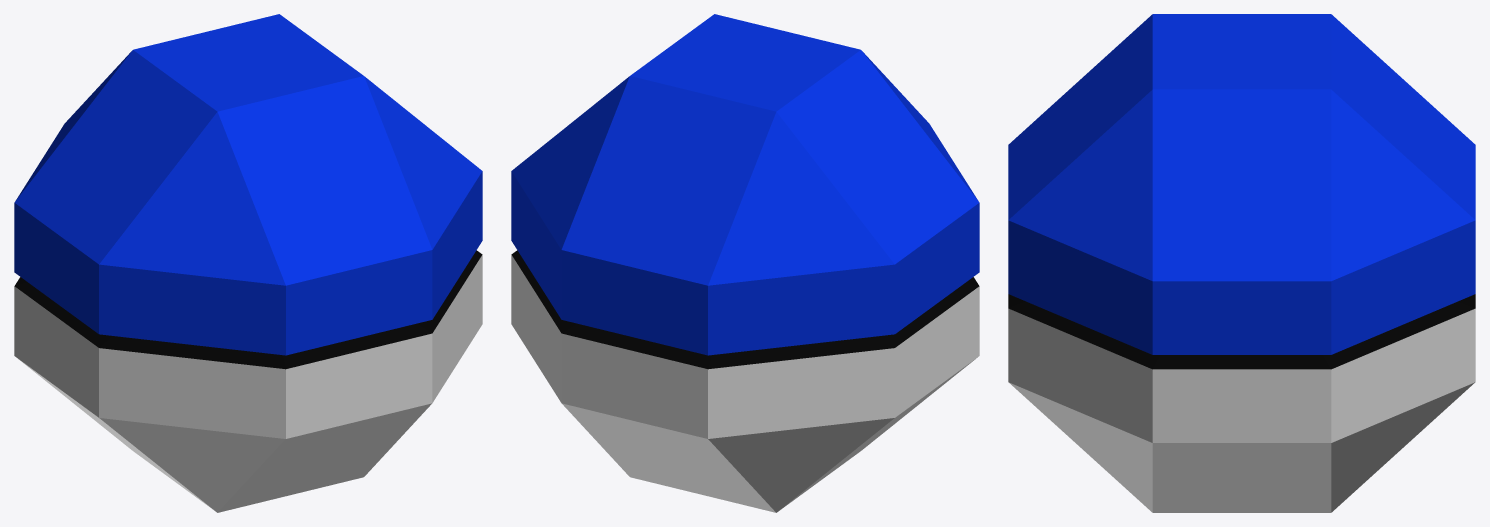
The model's file is blueballs.fbx.
3 renders of one model, left to right at view 1: azimuth 30°, elevation 25°; view 2: azimuth 150°, elevation 25°; view 3: azimuth 270°, elevation 25°, orthographic. The views are drawn at different scales.
Visible parts, largest first — view 1: Cube.003; view 2: Cube.003; view 3: Cube.003.
Boxes of the visible parts, x1=… form: Cube.003: x1=14, y1=14, x2=482, y2=512; Cube.003: x1=511, y1=14, x2=979, y2=512; Cube.003: x1=1008, y1=14, x2=1475, y2=512.
Bounding box in the file's own units: 200 × 200 × 200.
